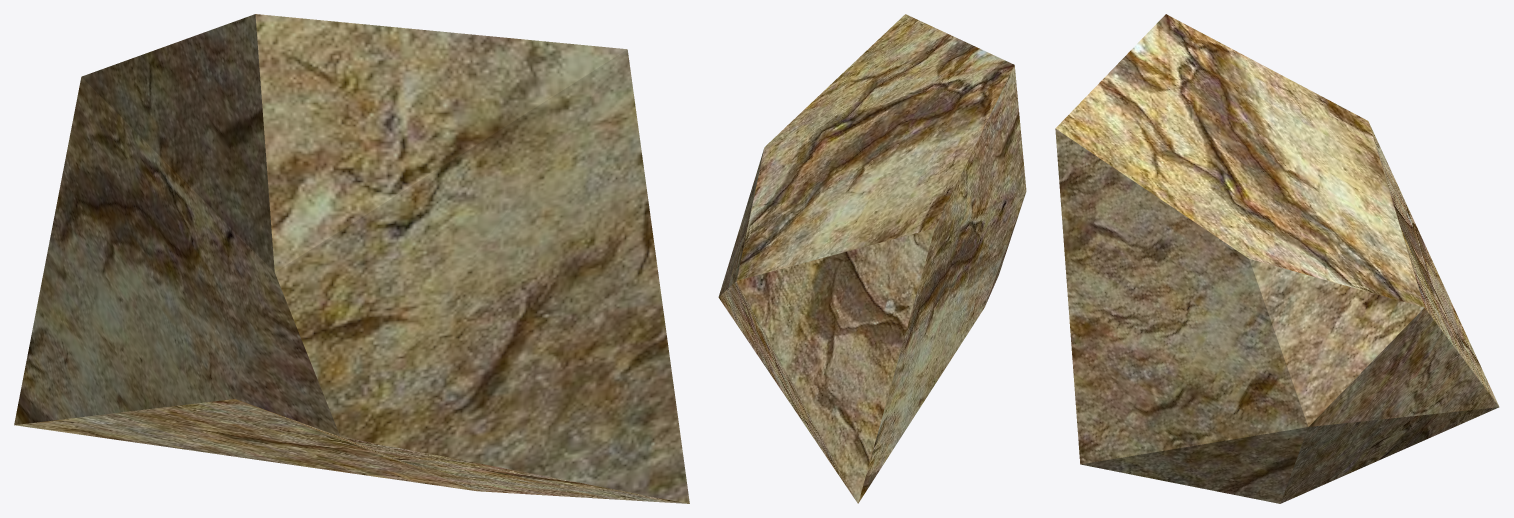
File: rock15.fbx
3 views of the same model, side by side, from view 1: azimuth 30°, elevation 25°; view 2: azimuth 150°, elevation 25°; view 3: azimuth 270°, elevation 25° (orthographic). The views are drawn at different scales.
Parts seen in each view (by area): view 1: Rock15; view 2: Rock15; view 3: Rock15.
Boxes of the visible parts, bbox=[...] form: Rock15: bbox=[14, 14, 689, 503]; Rock15: bbox=[718, 14, 1026, 503]; Rock15: bbox=[1055, 14, 1499, 503].
Size of the model in its own units: 9.32 by 12.55 by 12.85.
